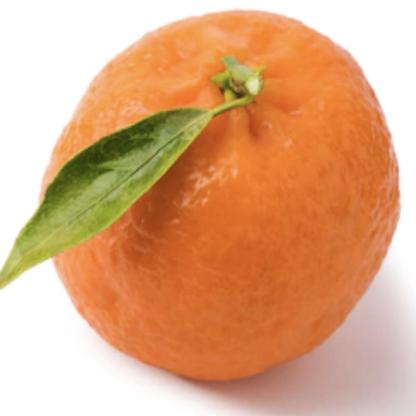fresh: (40, 12, 400, 379)
